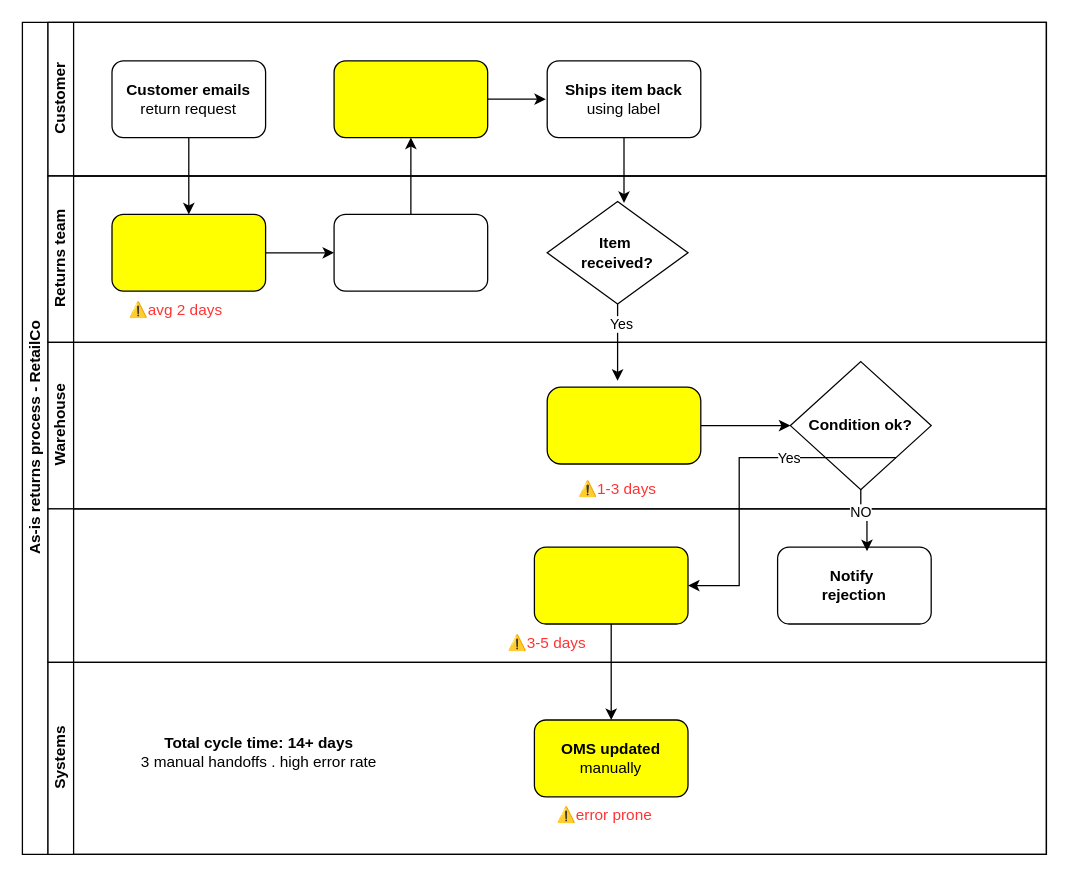
The diagram is 1069 pixels wide and 877 high, and some of its shapes have lost their labels. The box of each missing label's shape, as (x1, y1, x2, y2) in pixels:
Customer Waits for label (3-5 days): (333, 60, 488, 138)
Email return shipping label: (333, 213, 488, 291)
Finance: (47, 508, 1046, 662)
Manual email review & log: (111, 213, 266, 291)
Manual Item inspection: (546, 386, 701, 464)
Manual refund processed: (533, 546, 688, 624)
